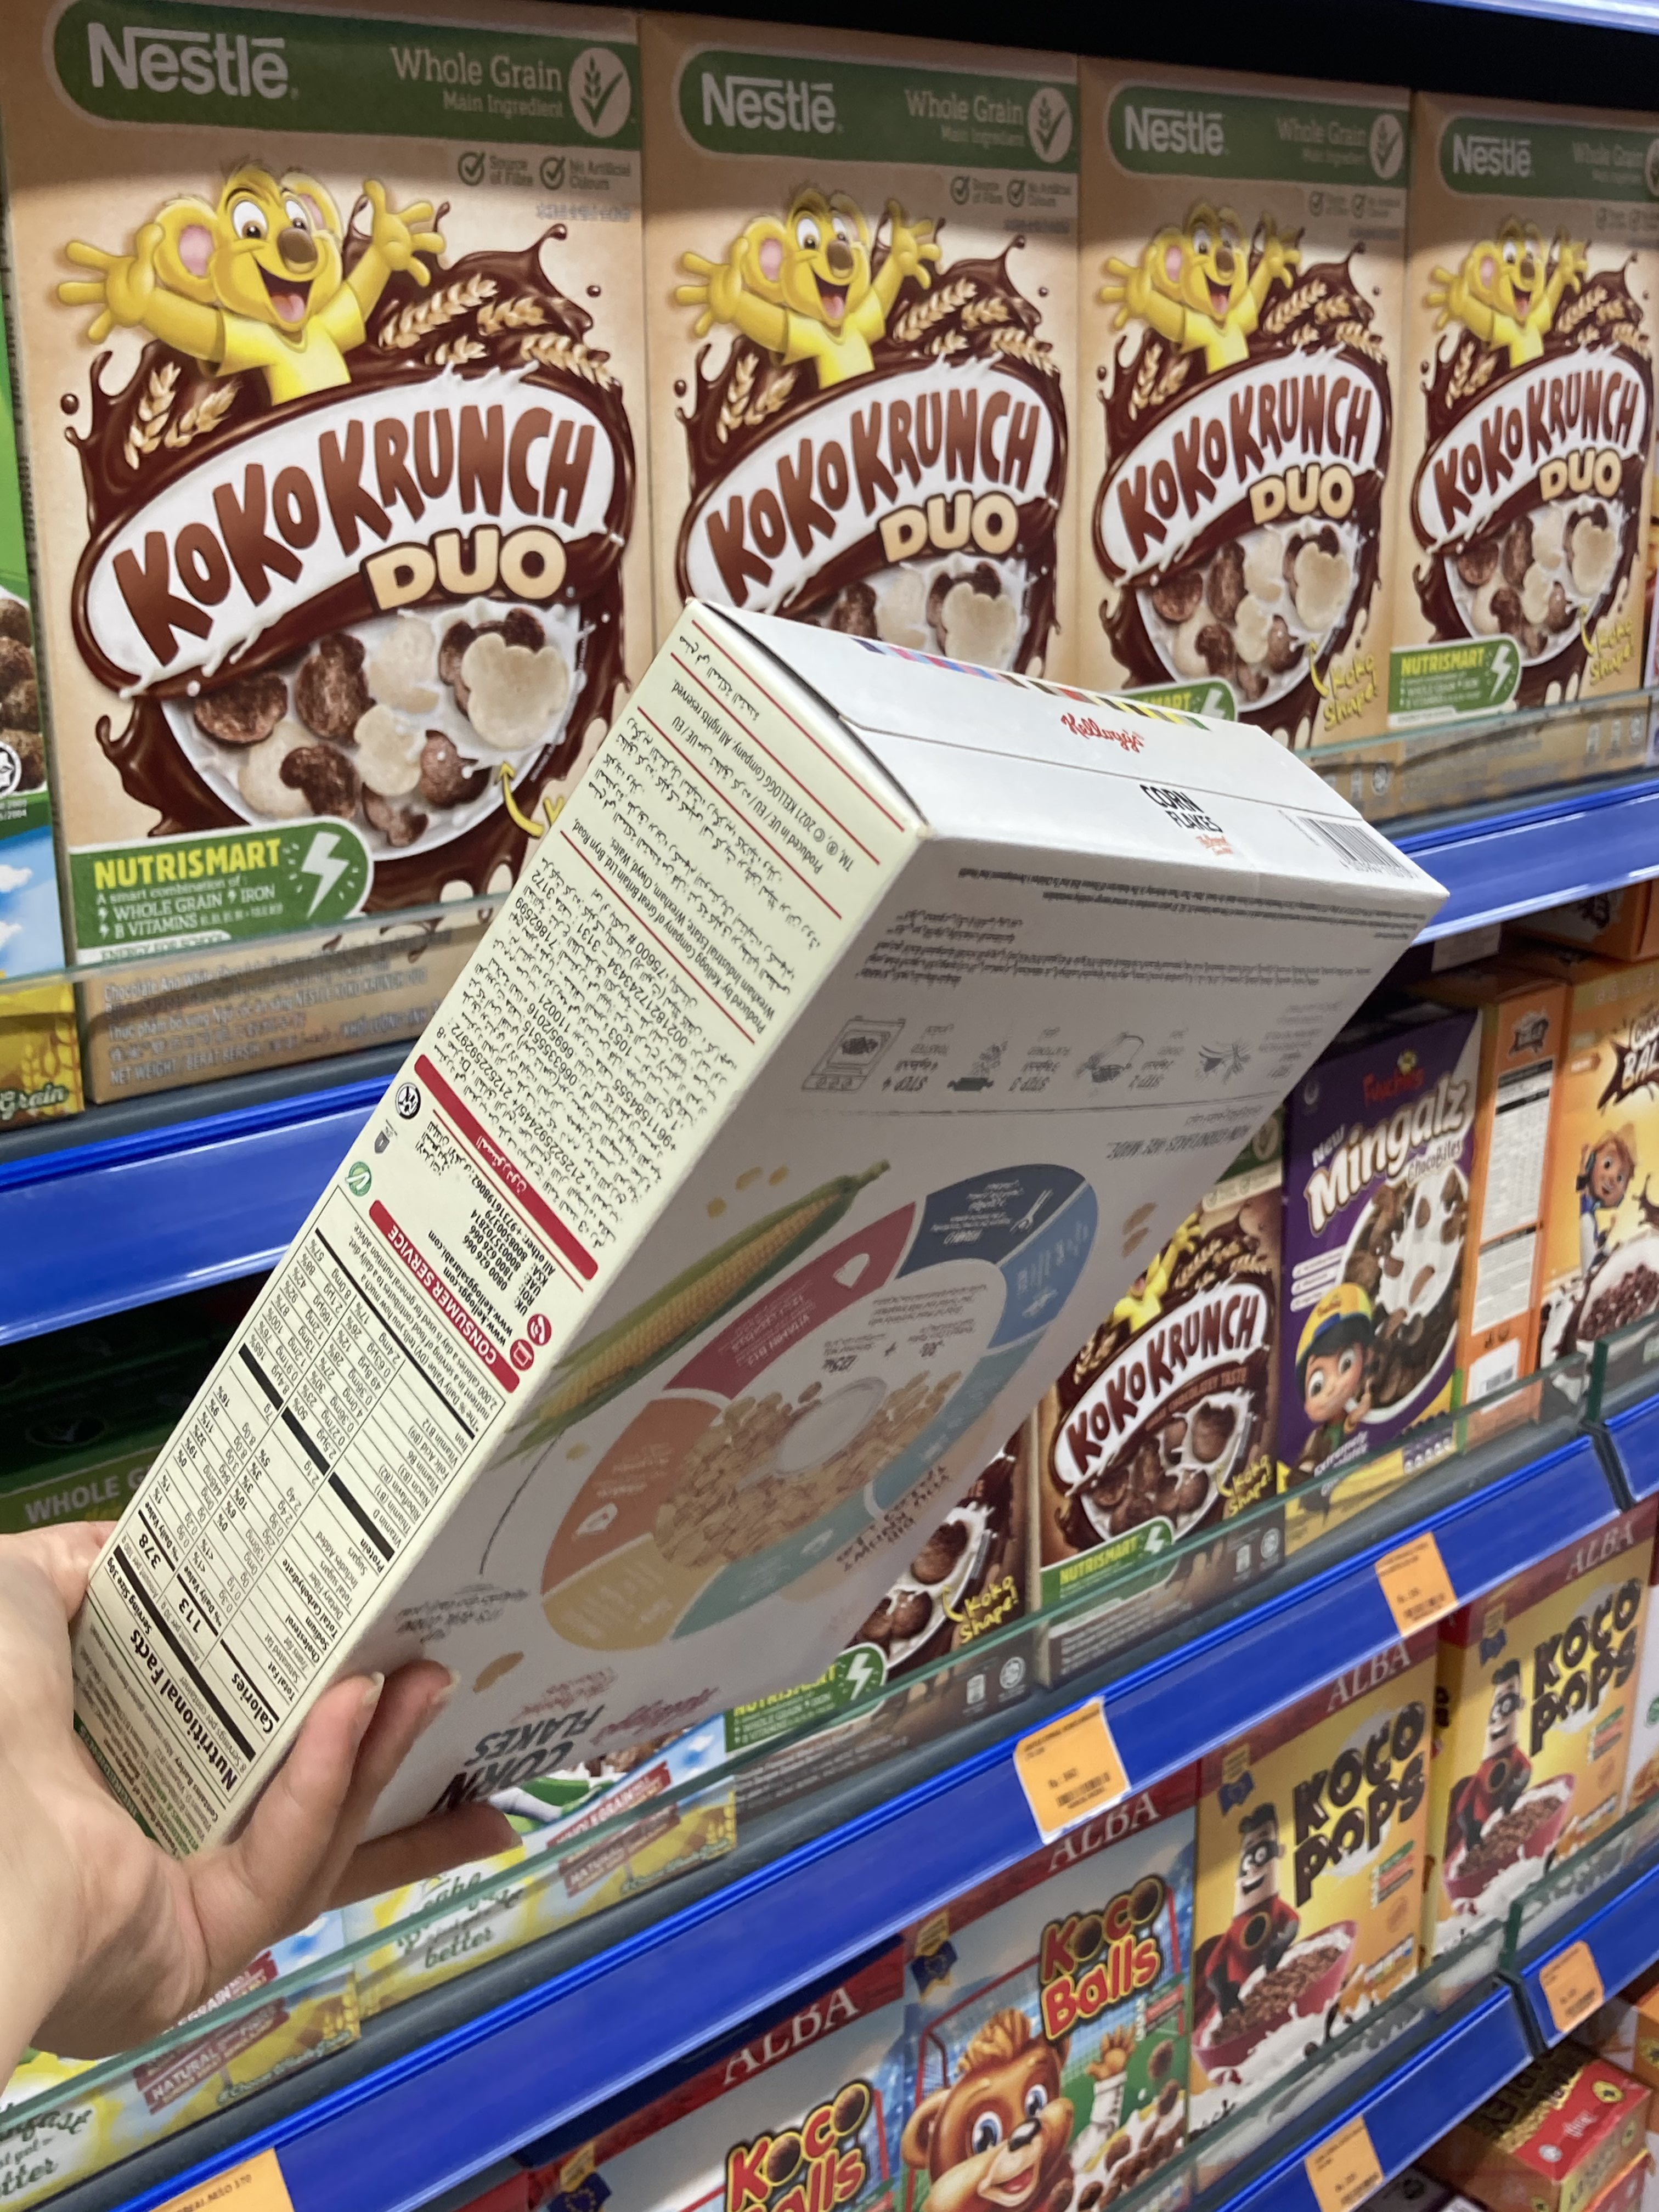Kellogg's Corn Flakes: (87, 604, 1452, 1850)
